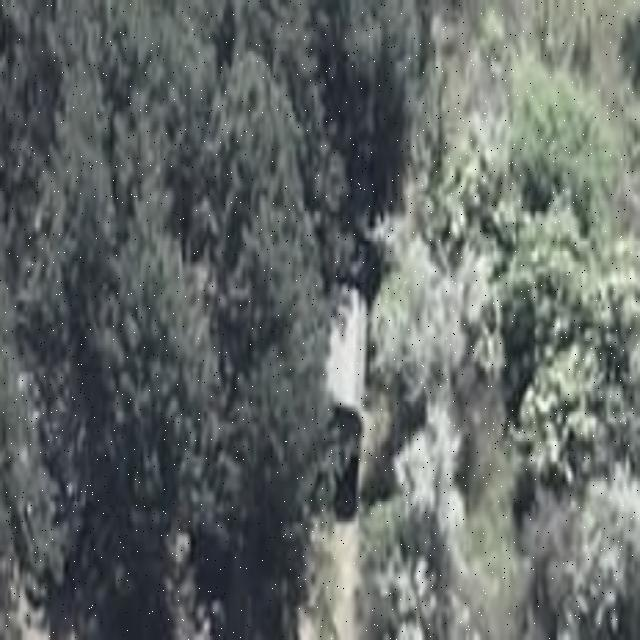TRUCK: (315, 239, 370, 463)
